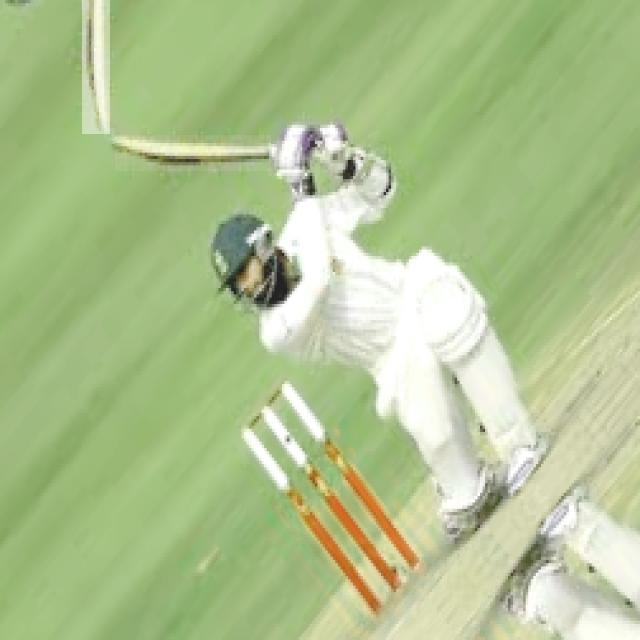bat: (106, 136, 284, 167)
toe: (109, 135, 130, 151)
